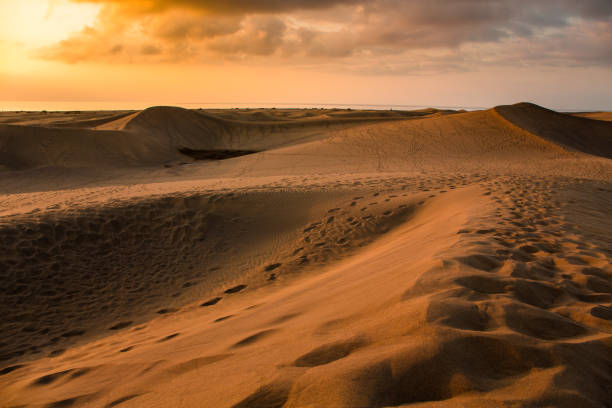human_foot_print: (434, 298, 584, 345), (388, 346, 516, 392), (450, 276, 542, 292), (470, 244, 511, 274), (34, 369, 92, 385), (596, 292, 612, 334), (326, 236, 358, 256), (510, 240, 544, 255), (255, 260, 286, 276), (54, 320, 84, 336), (221, 282, 250, 298), (103, 320, 136, 333), (202, 292, 223, 309), (292, 248, 315, 259), (154, 306, 180, 312), (330, 204, 341, 218), (346, 221, 361, 230), (384, 207, 395, 218), (362, 212, 371, 222)
